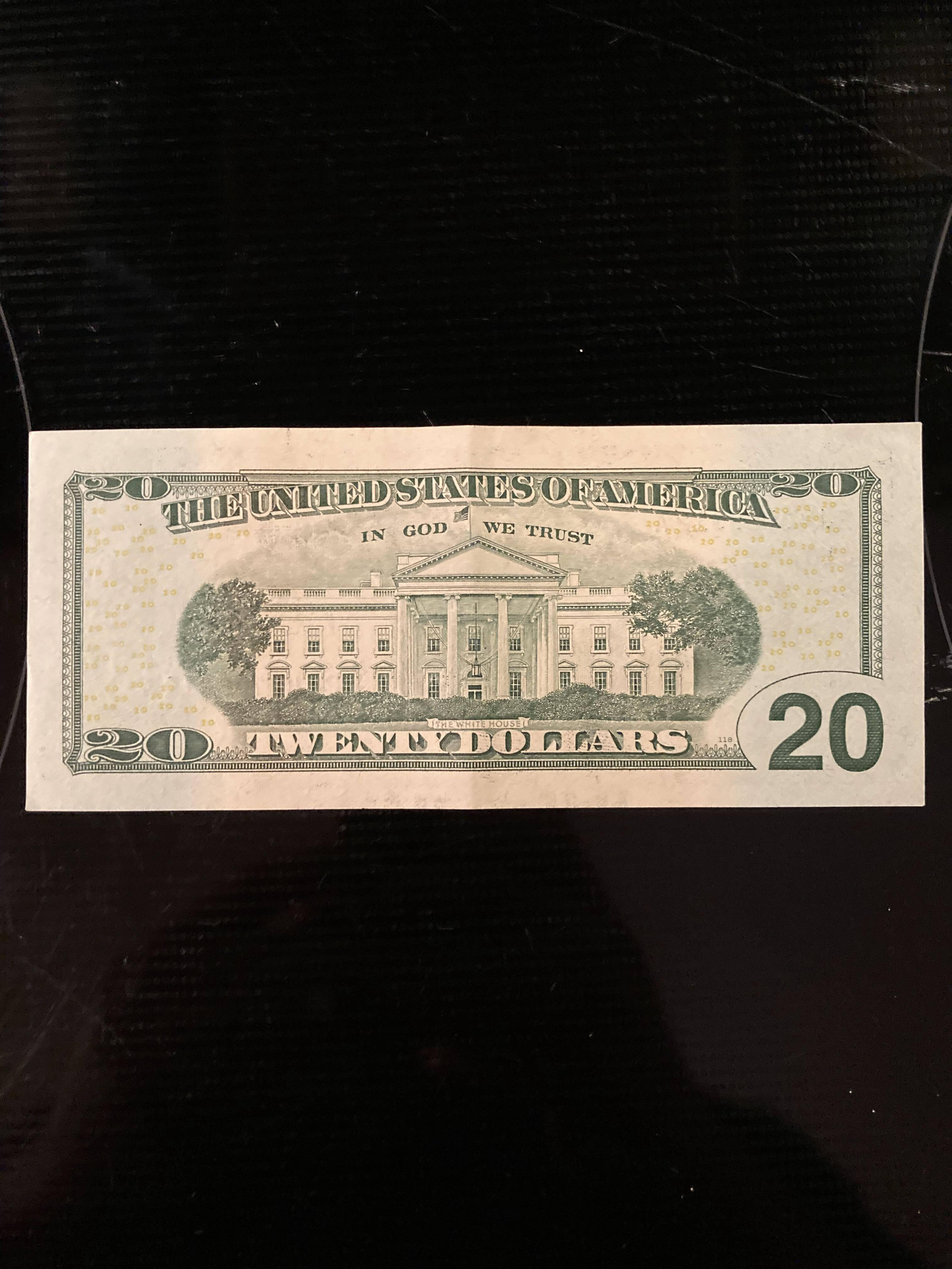twenty-back: (26, 421, 927, 813)
